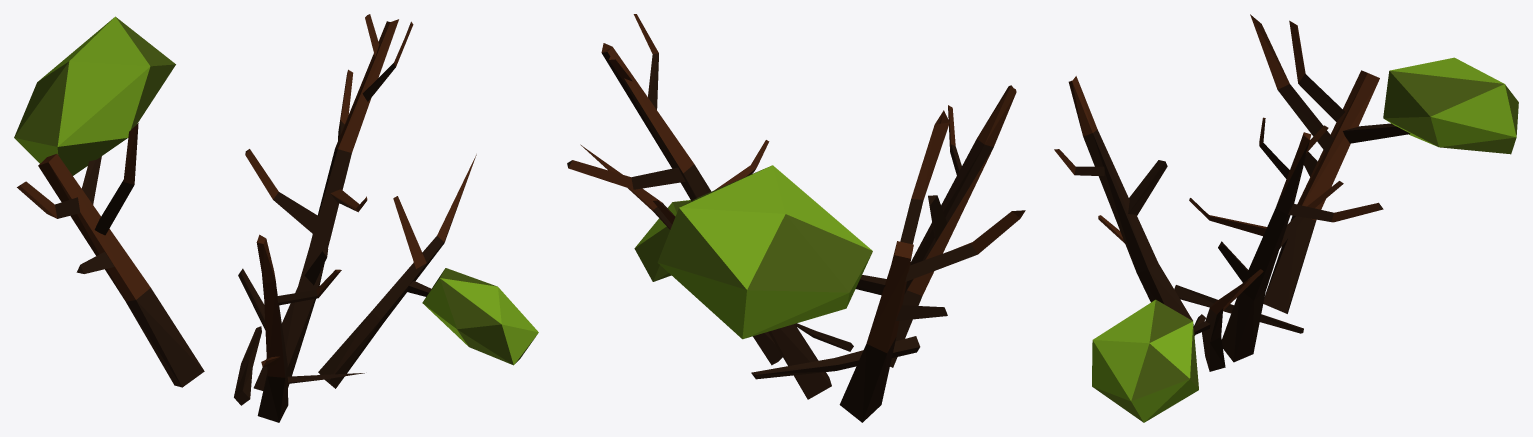
File: Tree3_M2_LyingTree.fbx
3 renders of one model, left to right at view 1: azimuth 30°, elevation 25°; view 2: azimuth 150°, elevation 25°; view 3: azimuth 270°, elevation 25°, orthographic. The views are drawn at different scales.
Parts seen in each view (by area): view 1: Tree3_M2_LyingTree; view 2: Tree3_M2_LyingTree; view 3: Tree3_M2_LyingTree.
Part boxes in pixels (box(x1,y1,x2,y2)): Tree3_M2_LyingTree: box(14, 14, 538, 422); Tree3_M2_LyingTree: box(567, 14, 1025, 422); Tree3_M2_LyingTree: box(1054, 14, 1518, 422).
Size of the model in its own units: 764 by 550 by 746.
